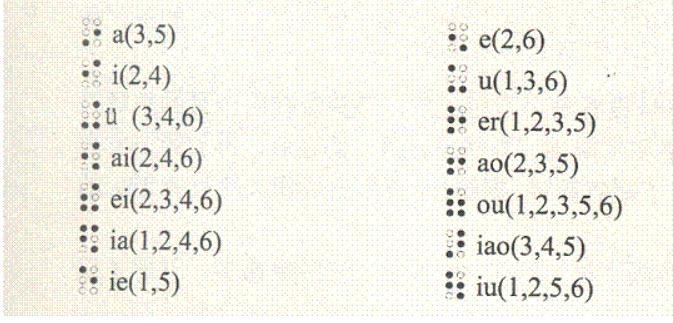Braille: (80, 16, 102, 48), (446, 23, 469, 53), (447, 63, 468, 95), (446, 105, 468, 135), (444, 270, 466, 300), (445, 146, 466, 176), (445, 229, 466, 259), (79, 182, 99, 213), (79, 264, 98, 296), (79, 141, 99, 171), (446, 187, 466, 217), (82, 60, 102, 89), (81, 100, 100, 130), (79, 225, 99, 253)
